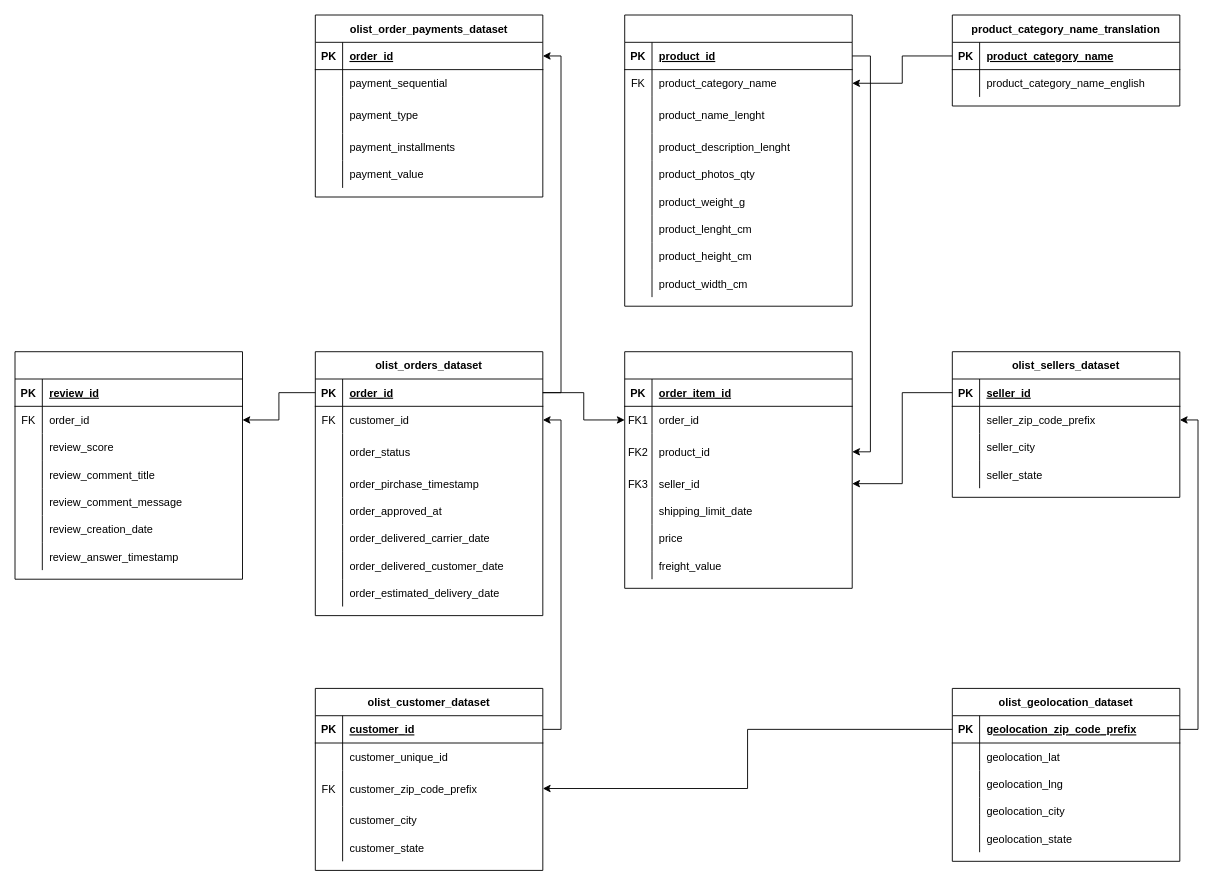
Image size: 1213x885. Some labels were removed from this diagram. Each missing label, with the box of its shape:
olist_order_items_dataset: (624, 351, 852, 588)
olist_order_reviews_dataset: (14, 351, 243, 579)
olist_products_dataset: (624, 14, 852, 306)
